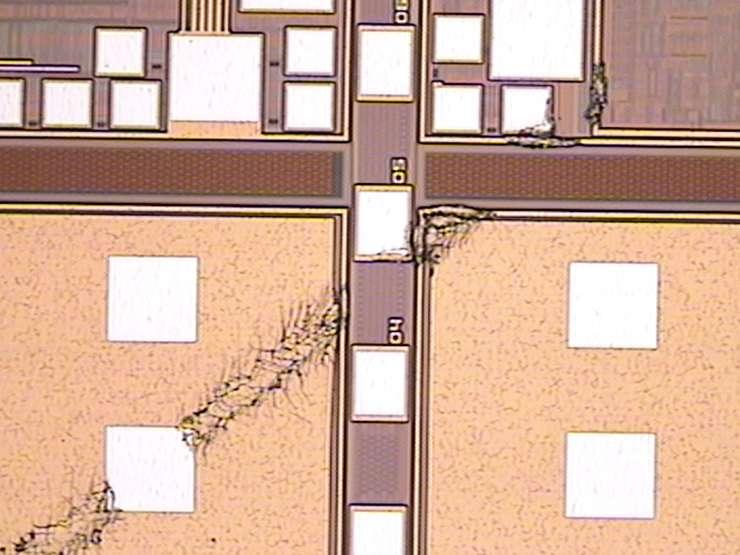SCRATCH: (1, 59, 633, 555)
